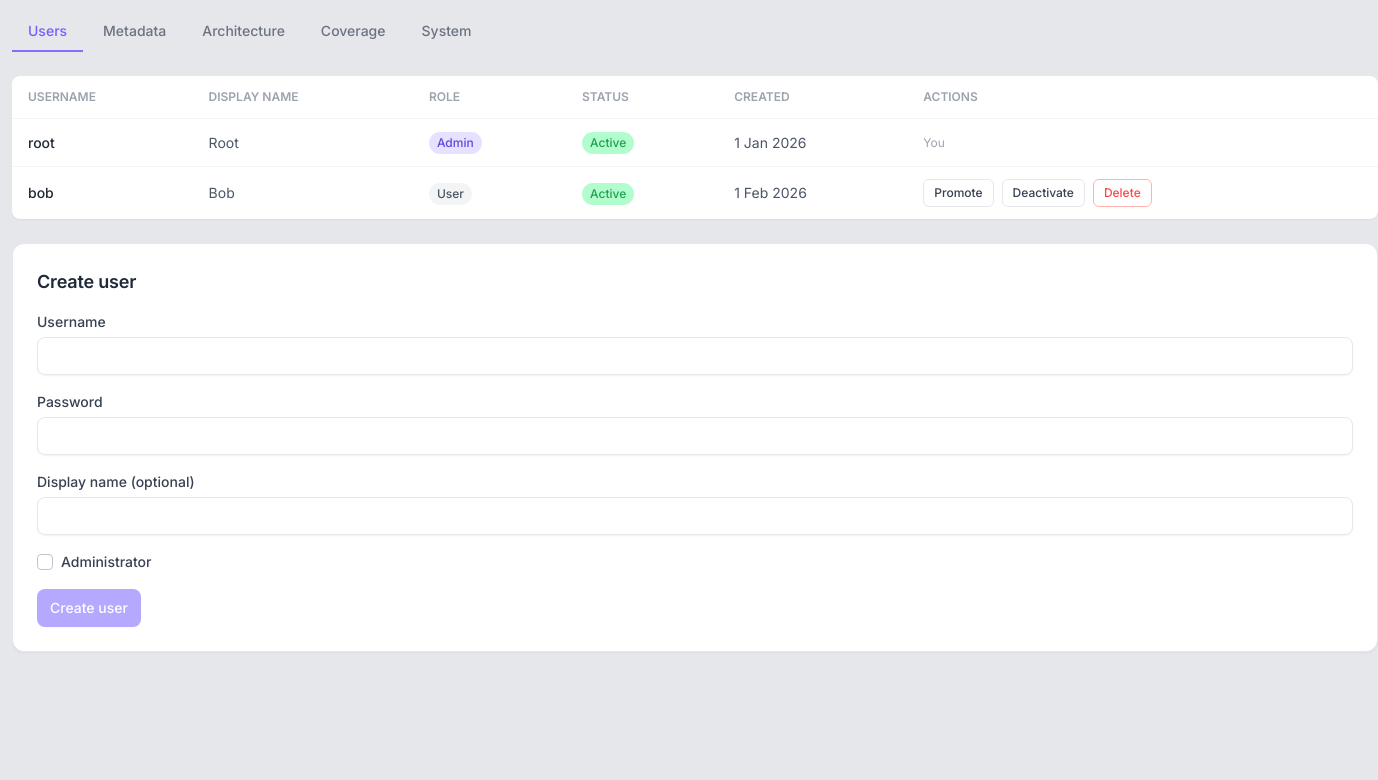
Scenario: AdminView › renders coverage figures, gate verdicts and worst files when available
What coordinates should you click on to do the following:
click the tab with test id "admin-tab-coverage-btn"
I would click on:
 (353, 32)
Its box is [305, 12, 402, 52].
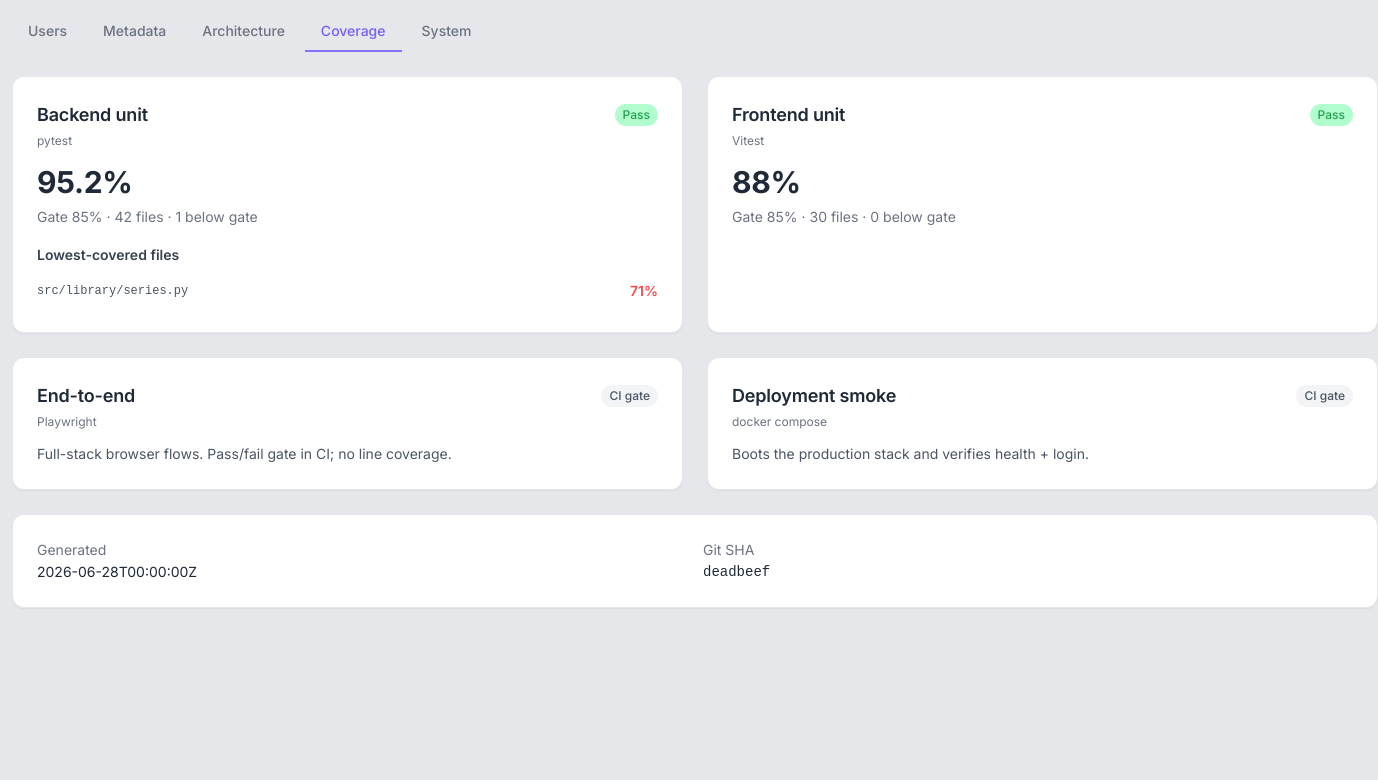
Now the text with test id "coverage-backend" reads "95.2%", box [37, 164, 133, 200]
Now the text with test id "coverage-frontend" reads "88%", box [732, 164, 801, 200]
Now the element with test id "coverage-card-backend" shows "Gate 85%", box [37, 208, 103, 225]
